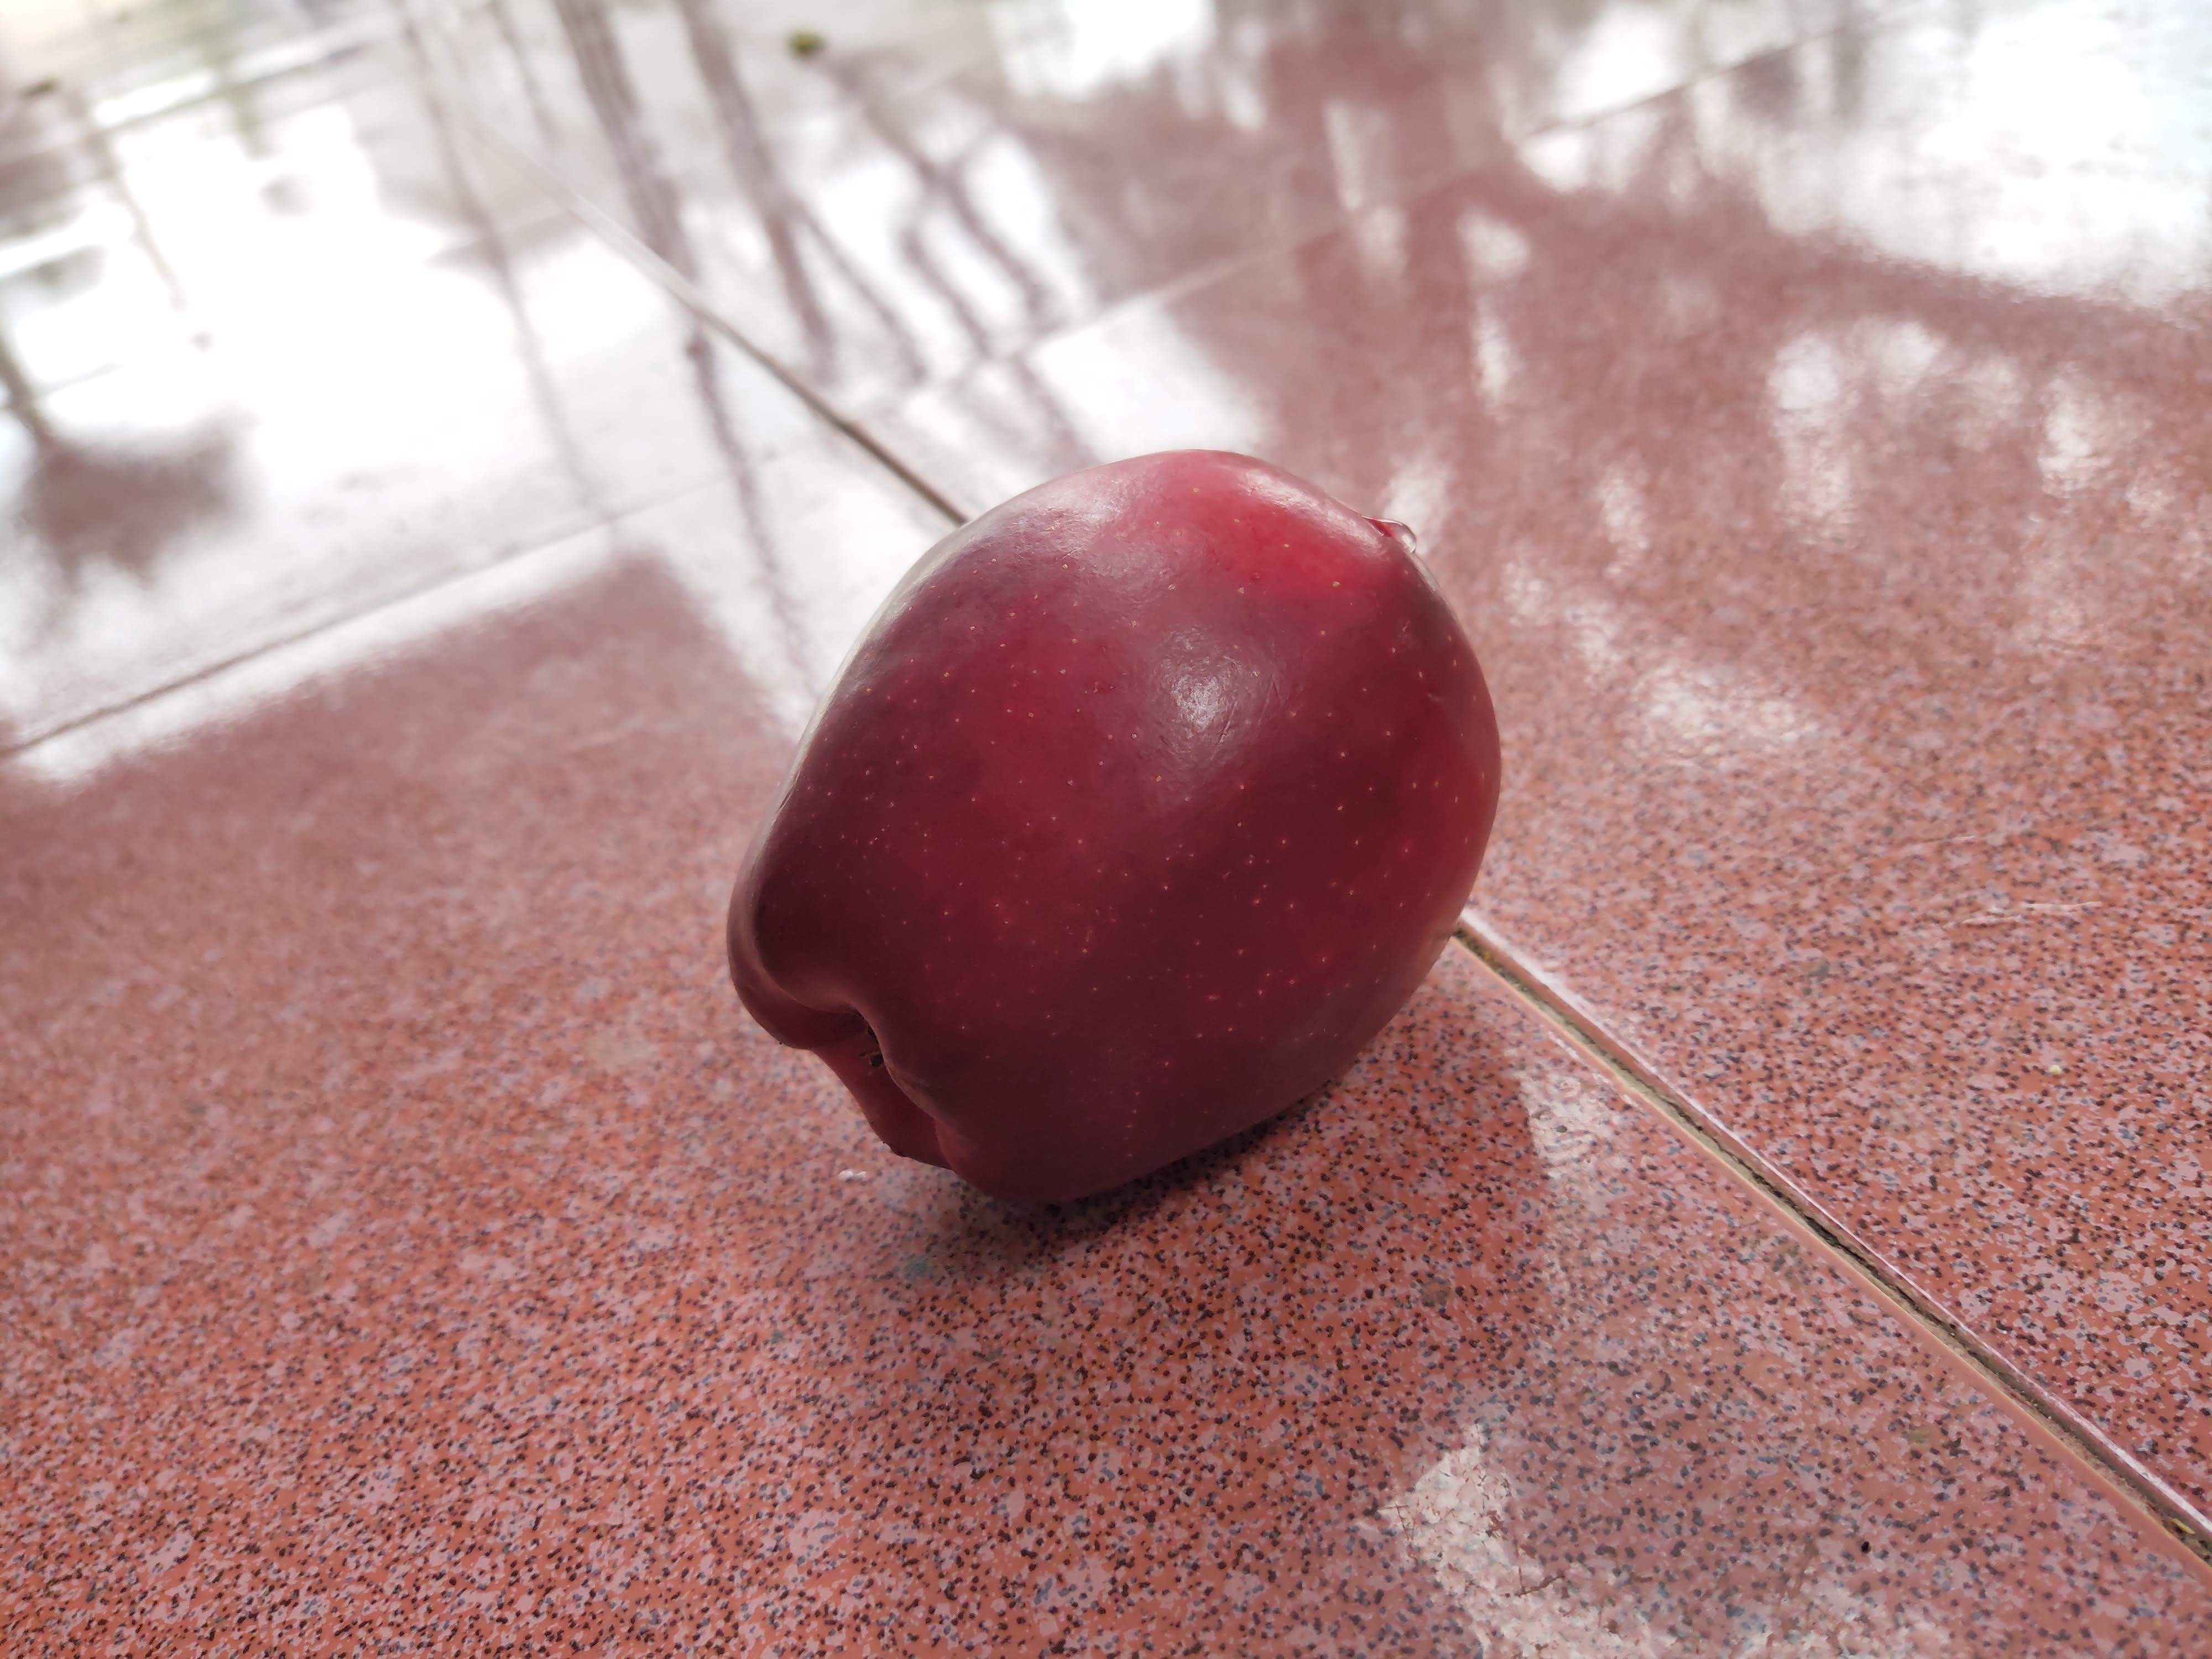apple: (718, 443, 1517, 1216)
